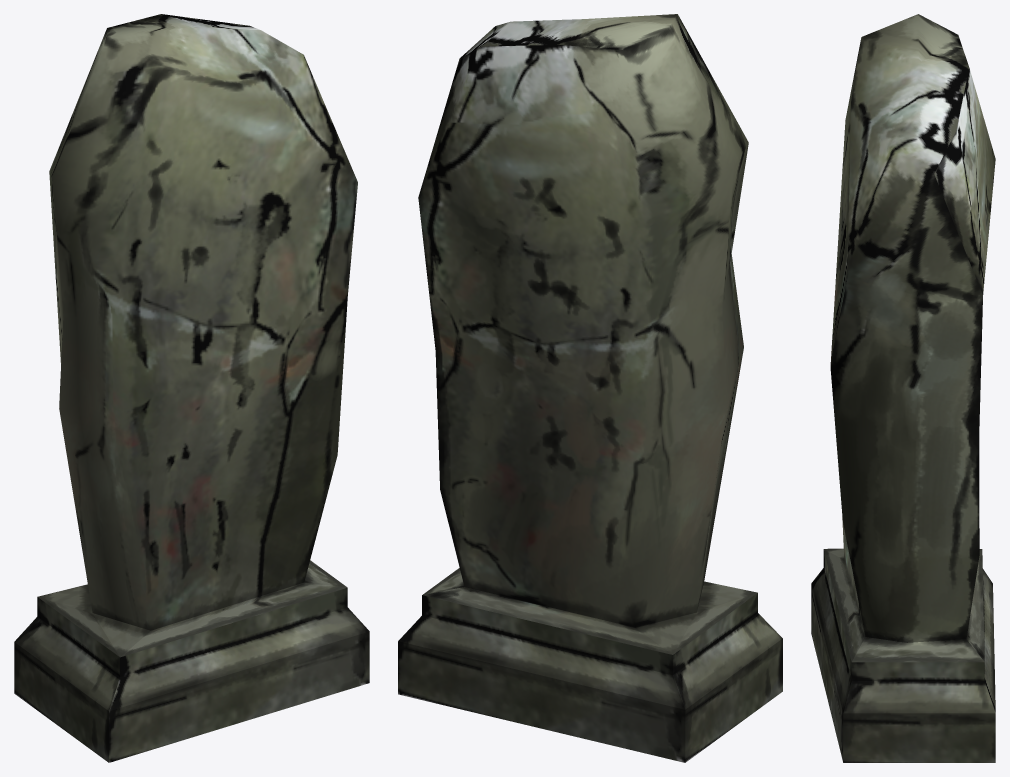
The model's file is PRP_Grave02.FBX.
The picture shows the model from 3 angles, left to right: view 1: azimuth 30°, elevation 25°; view 2: azimuth 150°, elevation 25°; view 3: azimuth 270°, elevation 25°; orthographic projection. The views are drawn at different scales.
Visible parts, largest first — view 1: PRP_Grave02; view 2: PRP_Grave02; view 3: PRP_Grave02.
Boxes of the visible parts, x1,y1,x2,y2 form: PRP_Grave02: (14,14,369,762); PRP_Grave02: (398,14,782,762); PRP_Grave02: (811,14,995,762).
Bounding box in the file's own units: 67.77 × 155 × 40.14.
